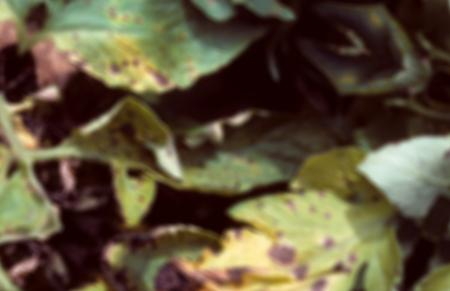Tomato Septoria leaf spot: (177, 127, 419, 291), (23, 0, 269, 142), (28, 66, 215, 230)
